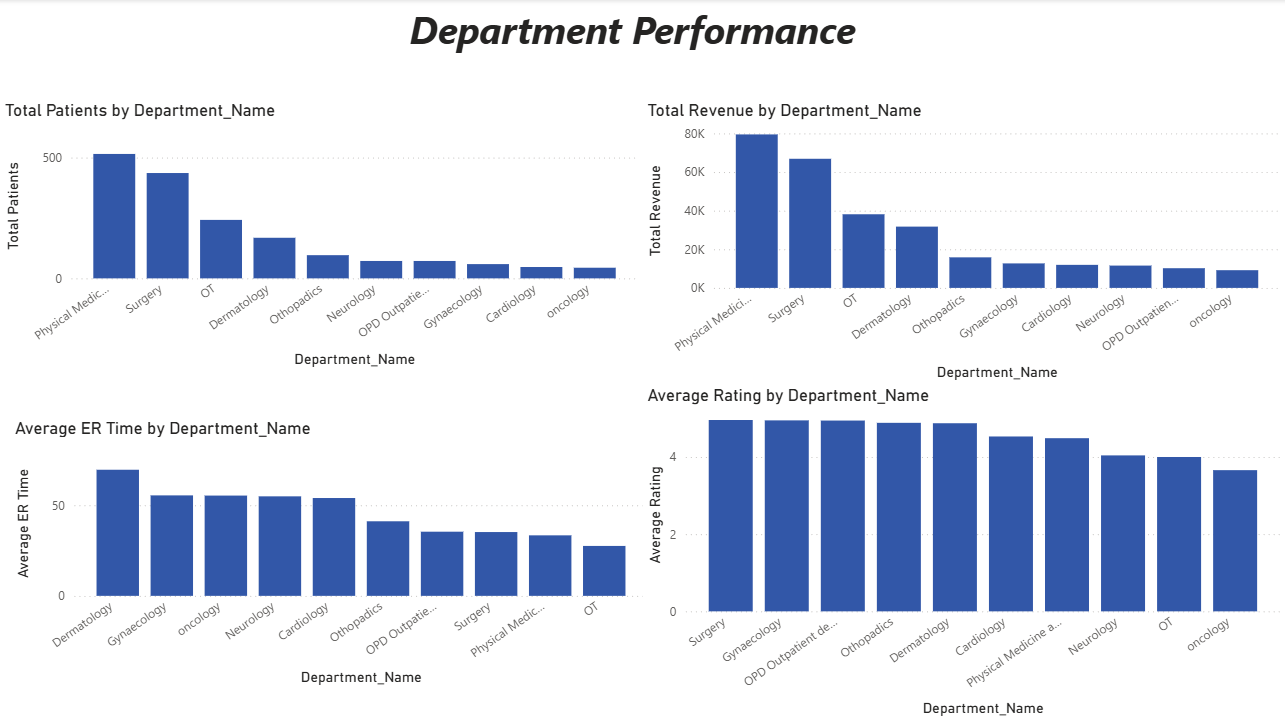

Layout of this report page (visuals, bound fields, positions):
{"tool":"powerbi","page":{"name":"Department Performance","canvas":[1280,720],"ordinal":1},"visuals":[{"type":"columnChart","fields":{"Category":["Department.Department_Name"],"Y":["Bed_Detail.Total Patients"]},"box":[0,101.2,640,271.2],"z":0},{"type":"columnChart","fields":{"Y":["Bed_Detail.Average ER Time"],"Category":["Department.Department_Name"]},"box":[10,416.2,640,271.2],"z":1000},{"type":"columnChart","fields":{"Category":["Department.Department_Name"],"Y":["Bed_Detail.Total Revenue"]},"box":[640,101.2,640,283.8],"z":2000},{"type":"columnChart","fields":{"Y":["Bed_Detail.Average Rating"],"Category":["Department.Department_Name"]},"box":[640,385,640,335],"z":3000},{"type":"textbox","box":[370,0,520,101.2],"z":4000}]}

Visuals, with their boxes in screenshot pixels (x1, y1, x2, y2), scaled from the page's 1280x720 canvas onto the 1285x721 screenshot:
columnChart - Department.Department_Name x Bed_Detail.Total Patients: box(0, 101, 642, 373)
columnChart - Bed_Detail.Average ER Time x Department.Department_Name: box(10, 417, 653, 688)
columnChart - Department.Department_Name x Bed_Detail.Total Revenue: box(642, 101, 1284, 386)
columnChart - Bed_Detail.Average Rating x Department.Department_Name: box(642, 386, 1284, 720)
textbox: box(371, 0, 893, 101)
